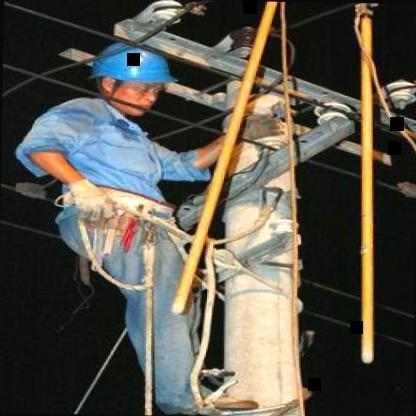helmet: (80, 42, 178, 115)
